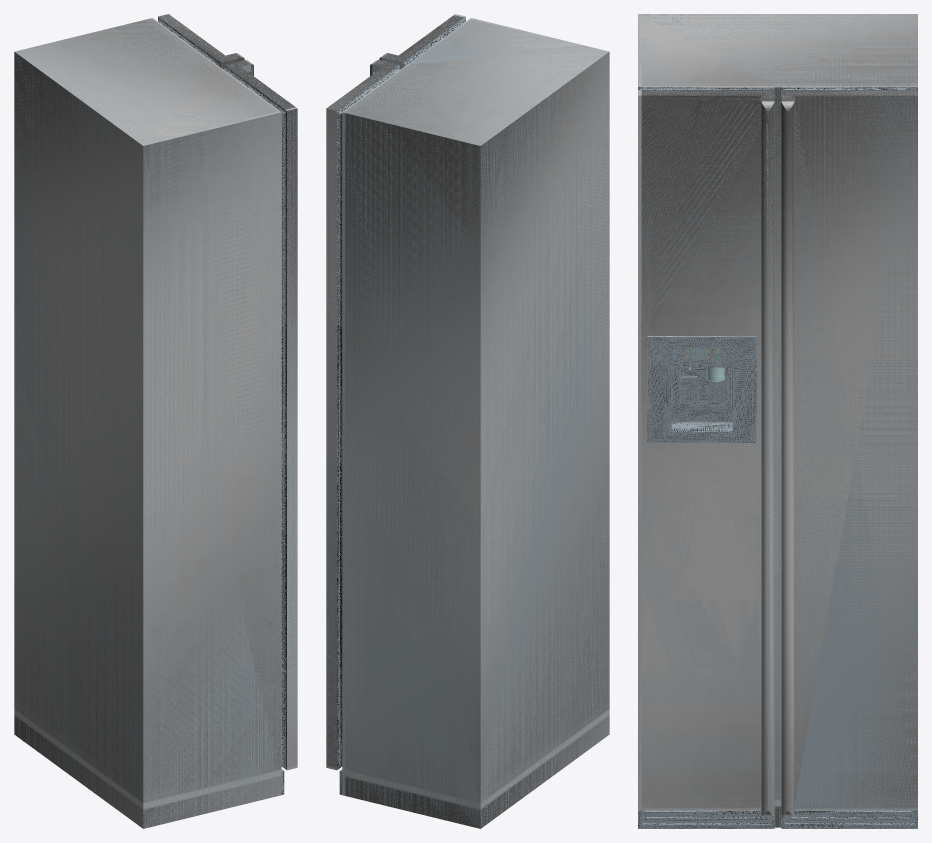
The model's file is Fridge.fbx.
The picture shows the model from 3 angles, left to right: view 1: azimuth 30°, elevation 25°; view 2: azimuth 150°, elevation 25°; view 3: azimuth 270°, elevation 25°; orthographic projection. The views are drawn at different scales.
Parts seen in each view (by area): view 1: Fridge1; view 2: Fridge1; view 3: Fridge1.
Boxes of the visible parts, box(x1,y1,x2,y2) form: Fridge1: box(14, 14, 297, 828); Fridge1: box(326, 14, 609, 828); Fridge1: box(638, 14, 917, 828).
Bounding box in the file's own units: 22.33 × 85.86 × 29.4.
